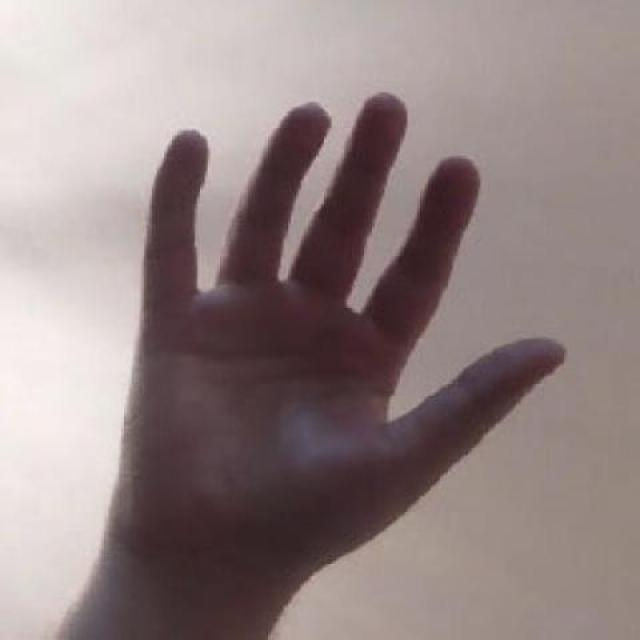Open Hand: (111, 82, 577, 640)
